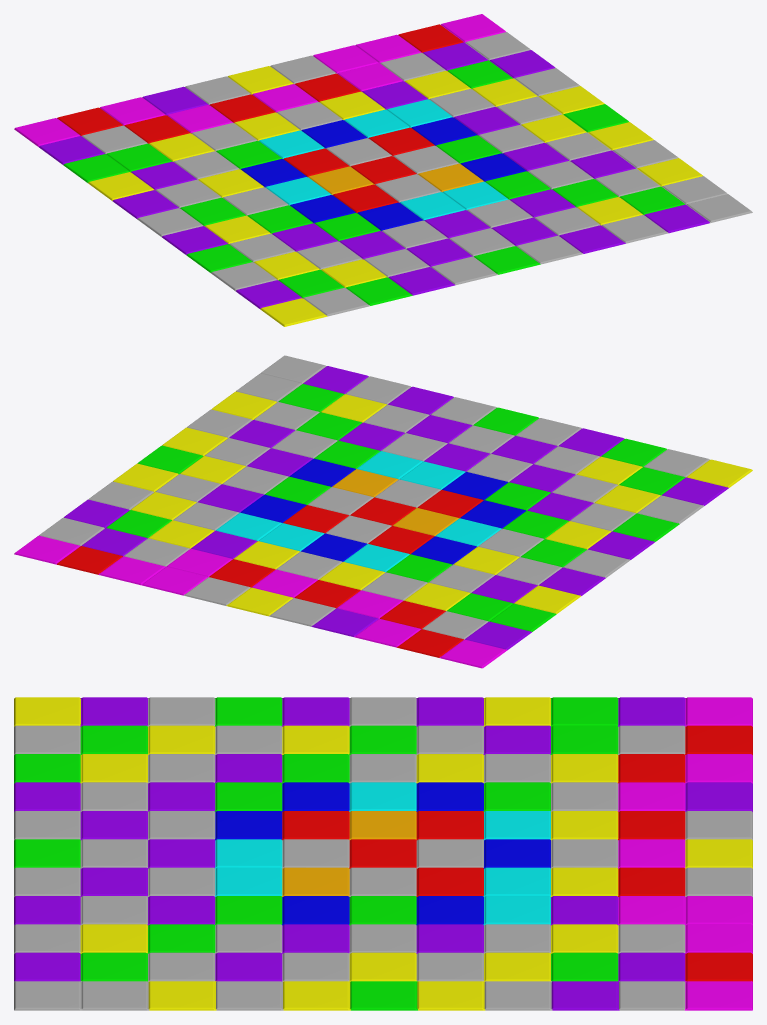
The model's file is marbel 3.fbx.
3 views of the same model, one above another, from view 1: azimuth 30°, elevation 25°; view 2: azimuth 150°, elevation 25°; view 3: azimuth 270°, elevation 25° (orthographic). The views are drawn at different scales.
Parts seen in each view (by area): view 1: trim_base5; view 2: trim_base5; view 3: trim_base5.
Boxes of the visible parts, box(x1,y1,x2,y2) form: trim_base5: box(14, 14, 752, 326); trim_base5: box(14, 355, 752, 668); trim_base5: box(14, 697, 752, 1010).
Bounding box in the file's own units: 1000 × 3 × 1000.
